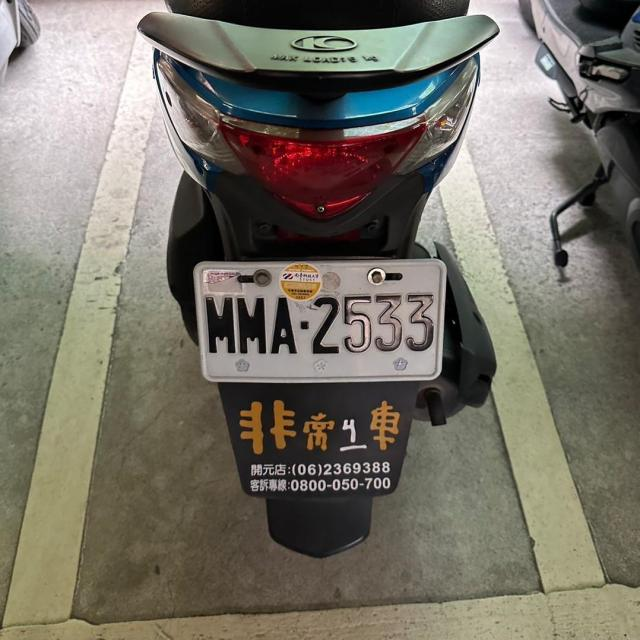W: (187, 252, 448, 388), (242, 451, 401, 504)
